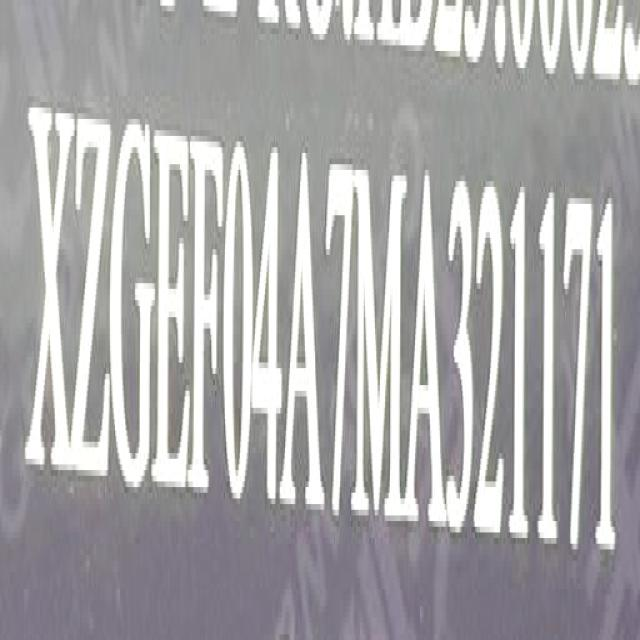0: (222, 134, 250, 514)
1: (534, 186, 562, 554), (598, 205, 622, 570), (510, 183, 529, 552)
2: (478, 177, 507, 552)
3: (446, 174, 478, 545)
4: (251, 136, 285, 516)
7: (324, 157, 356, 526), (562, 188, 592, 564)
A: (288, 148, 325, 522), (408, 171, 443, 534)
E: (156, 122, 190, 500)
F: (192, 123, 225, 510)
G: (109, 118, 157, 508)
M: (359, 159, 406, 531)
X: (32, 99, 74, 486)
Z: (73, 107, 112, 490)
